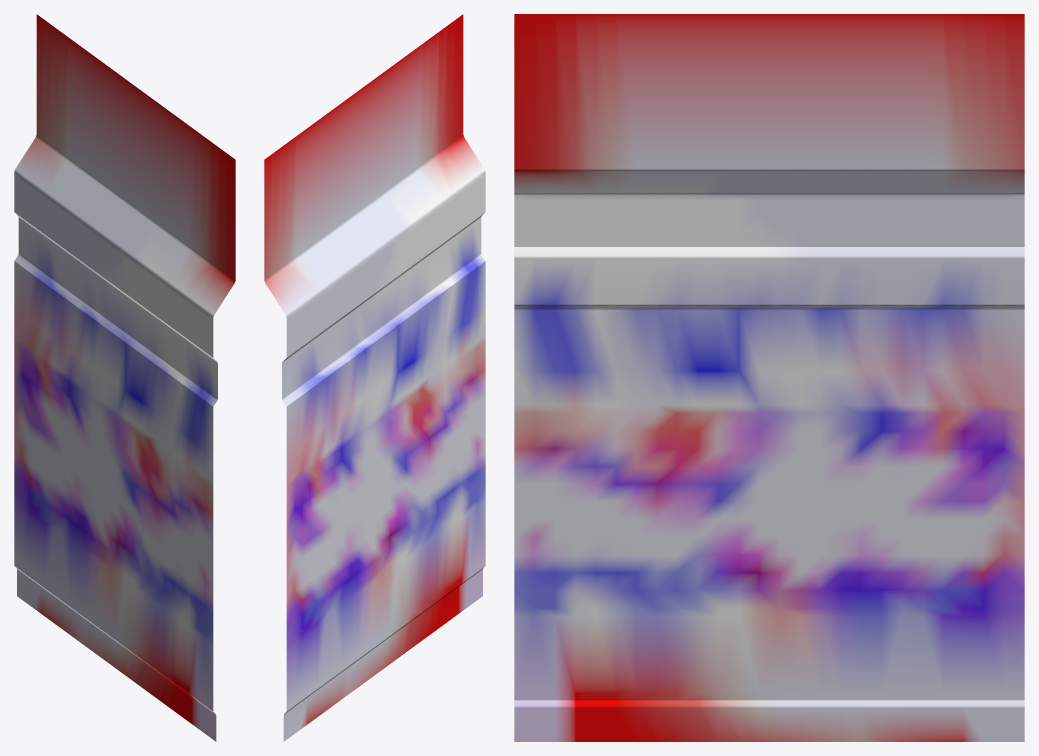
3 views of the same model, side by side, from view 1: azimuth 30°, elevation 25°; view 2: azimuth 150°, elevation 25°; view 3: azimuth 270°, elevation 25° (orthographic). The views are drawn at different scales.
Parts seen in each view (by area): view 1: SM_Platform_Wall_Large_01_LOD0; view 2: SM_Platform_Wall_Large_01_LOD0; view 3: SM_Platform_Wall_Large_01_LOD0.
Boxes of the visible parts, x1,y1,x2,y2 form: SM_Platform_Wall_Large_01_LOD0: (14,14,235,741); SM_Platform_Wall_Large_01_LOD0: (264,14,485,741); SM_Platform_Wall_Large_01_LOD0: (514,14,1024,741).
Bounding box in the file's own units: 32.32 × 500 × 800.
